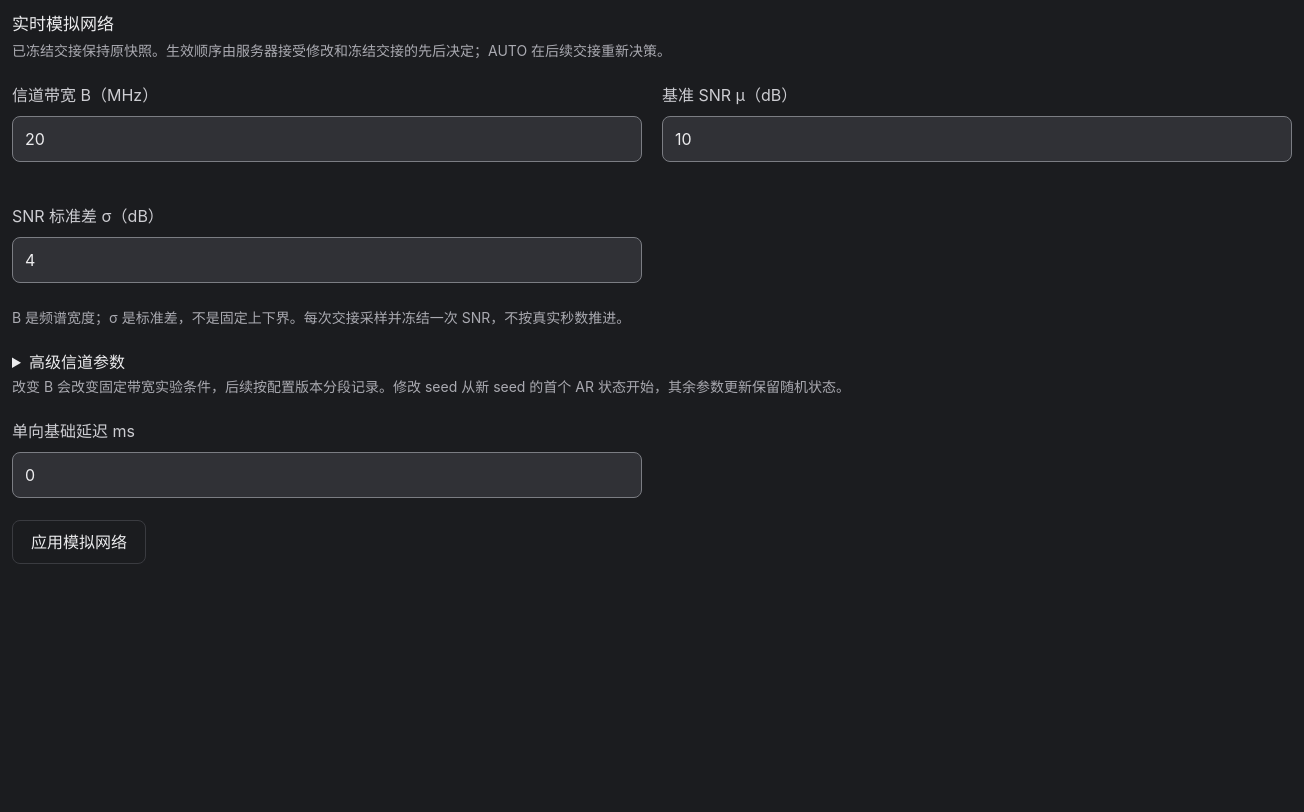
Test: patches a live Shannon channel without sending an independent Mbps rate
Replace the text in the number field labelled "基准 SNR μ（dB）" with "-5" at [977, 139], box [662,116,1292,162]
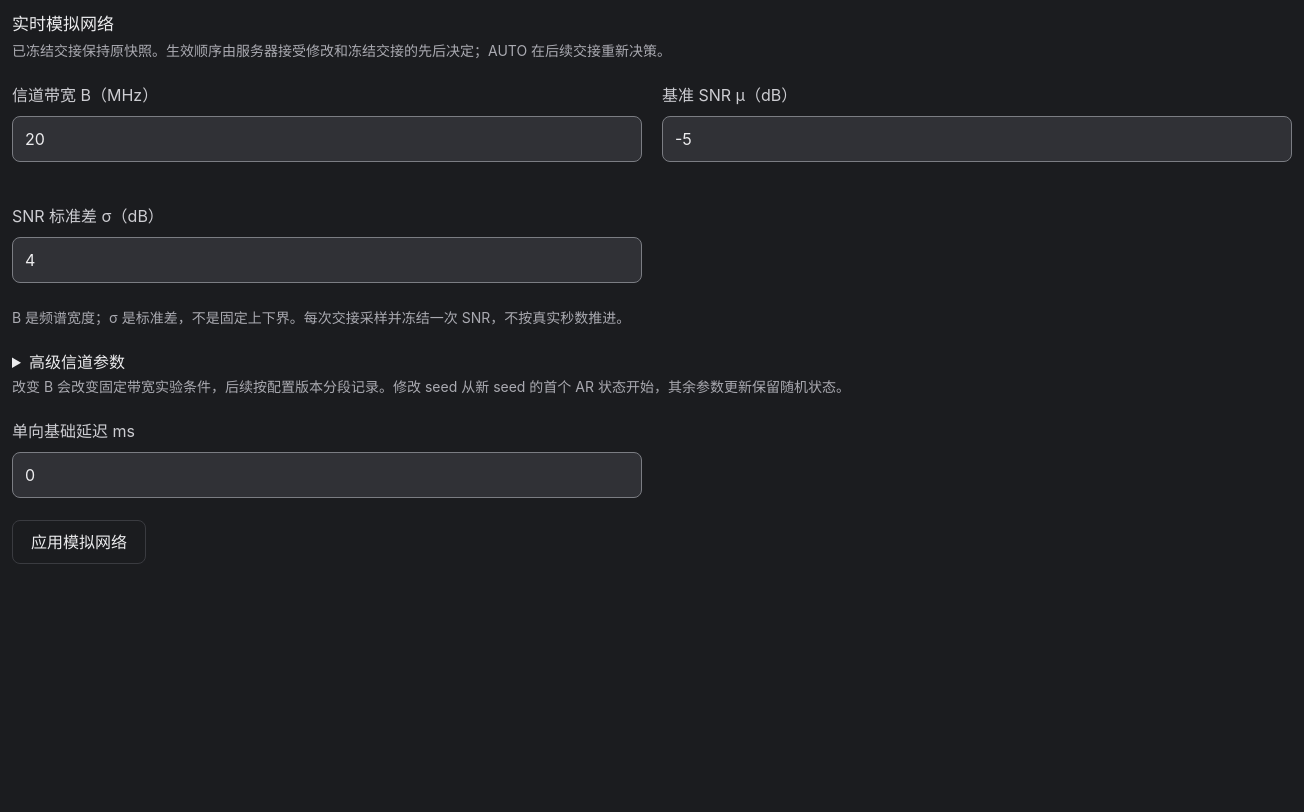
Replace the text in the number field labelled "信道带宽 B（MHz）" with "5" at [327, 139], box [12,116,642,162]
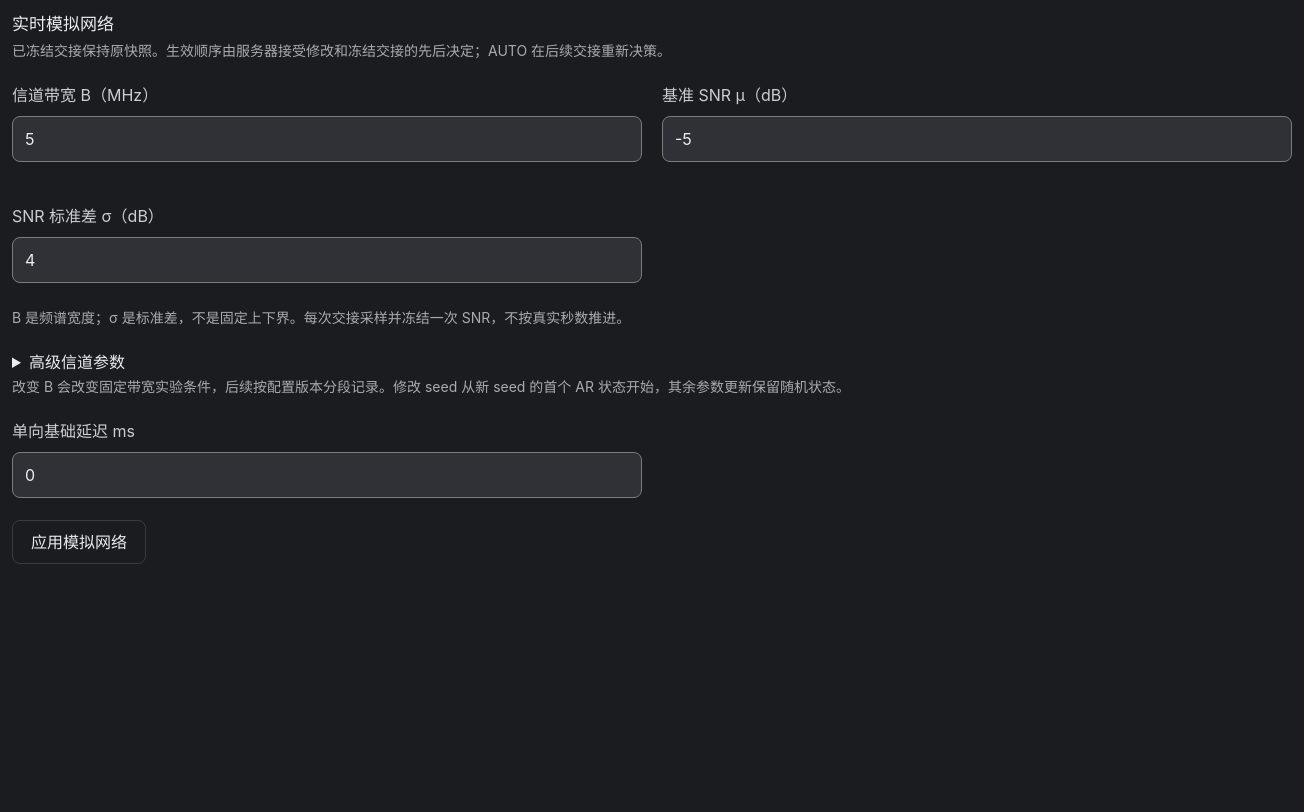
Click the button "应用模拟网络" at [79, 542], box [12,520,146,564]
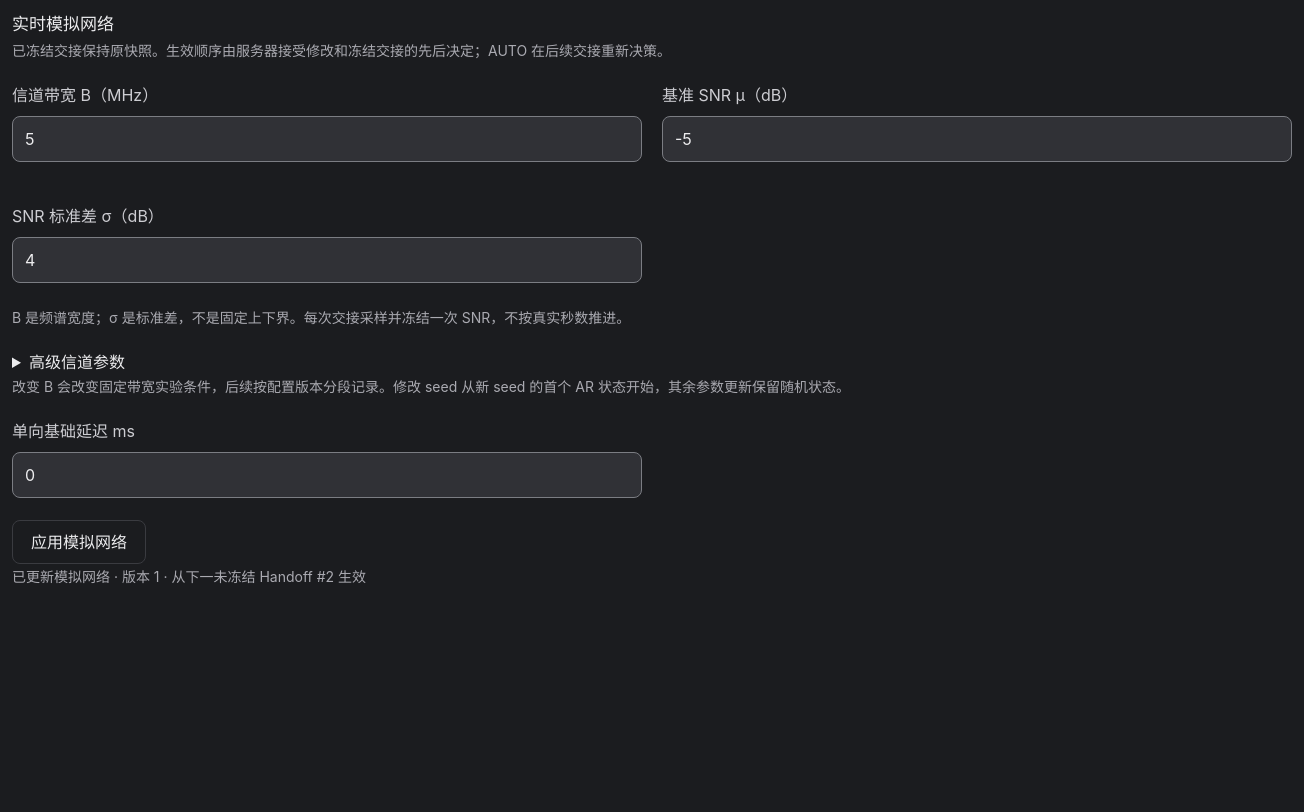
expect the text "已更新模拟网络 · 版本 1 · 从下一未冻结 Handoff #2 生效" is shown: met, box [12,568,366,585]
